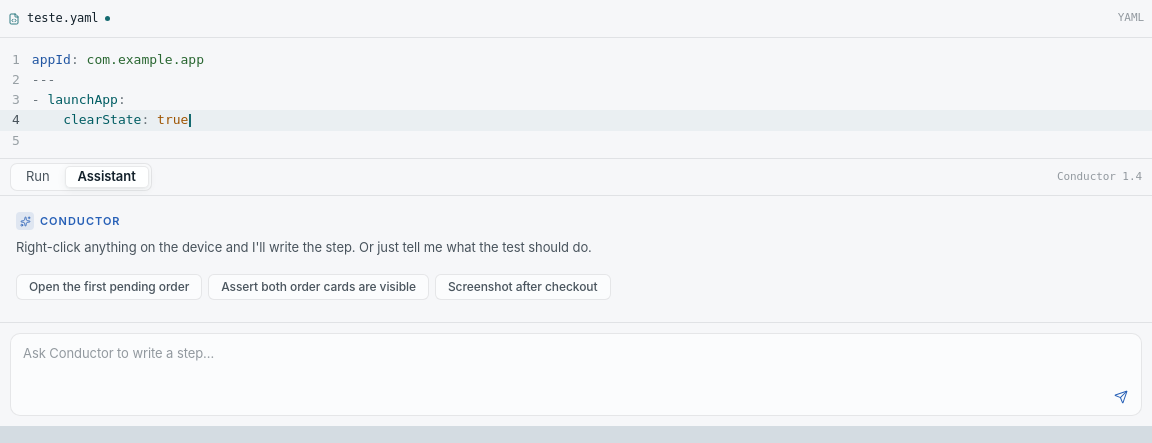
Test: FlowEditor › lower panel › swaps to the run report when the Run segment is activated
Click the tab "Run" at coordinates (38, 177), box [13, 166, 62, 188]
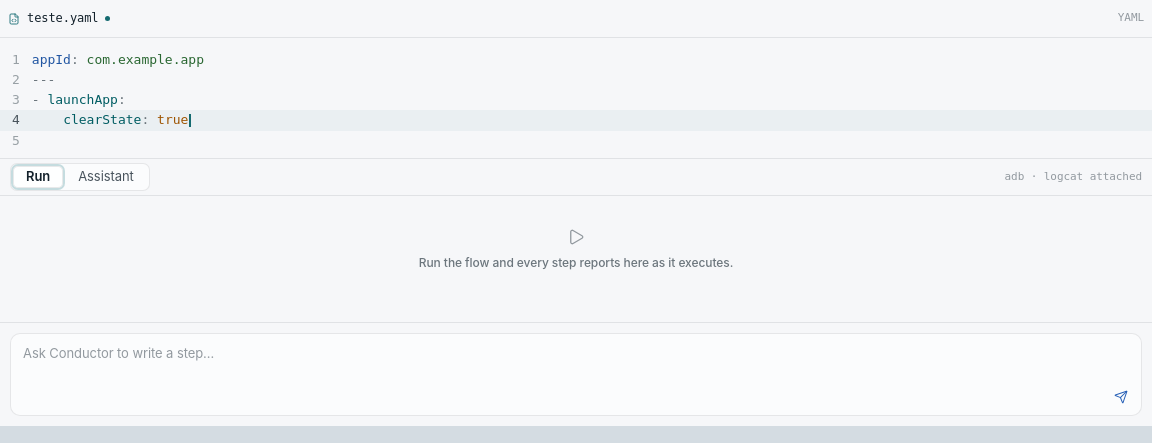
Now the text "Run the flow and every step reports here as it executes." is shown, box [419, 254, 733, 272]
Now the text "adb · logcat attached" is shown, box [1005, 169, 1142, 185]
